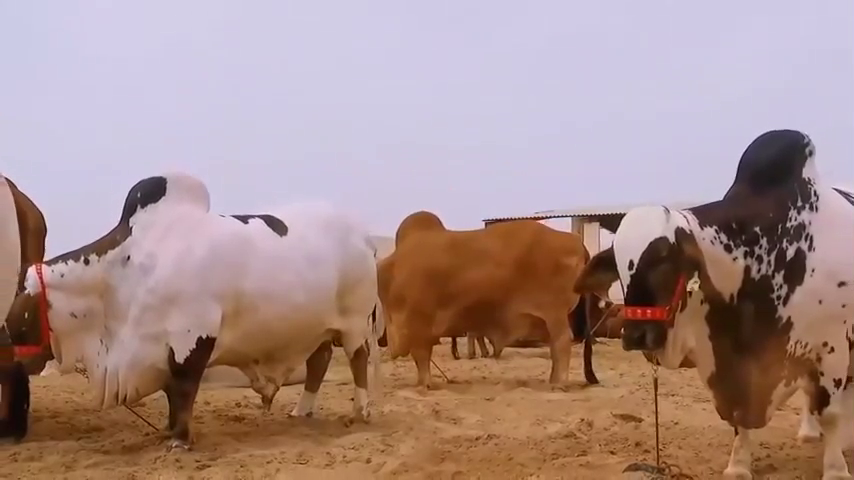bo: (561, 116, 853, 478), (13, 161, 377, 450), (359, 205, 603, 392)
